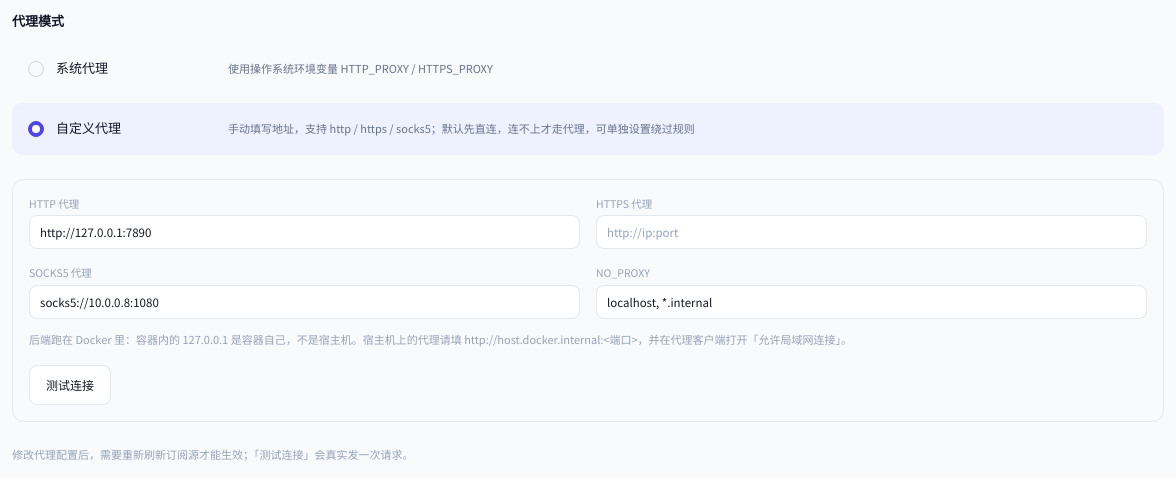
Test case: ProxyTab › reports the test result
What coordinates should you click on to do the following:
click the button "测试连接"
I would click on:
 (70, 385)
Its box is x1=29 y1=365 x2=111 y2=405.
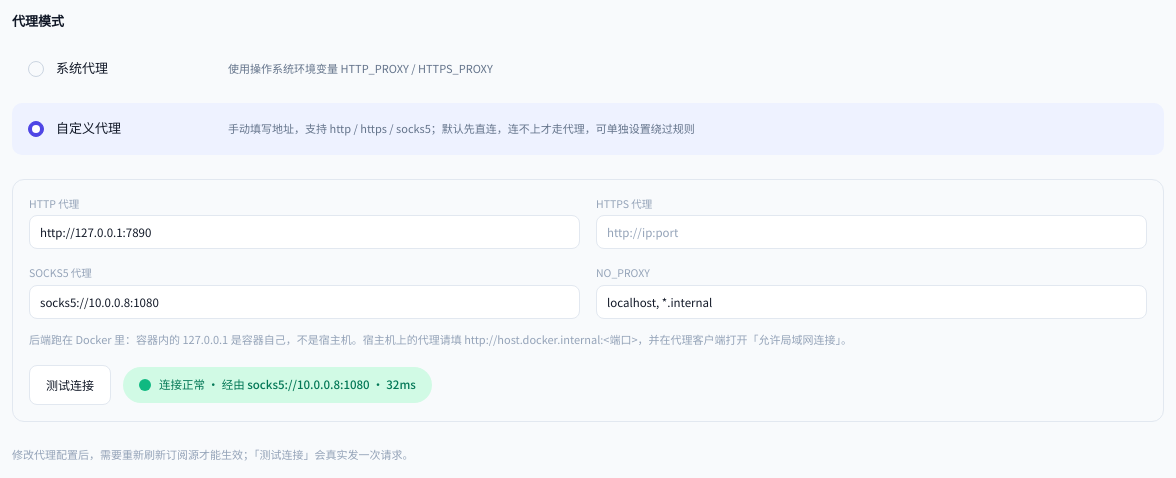
Now the text "连接正常 · 经由 socks5://10.0.0.8:1080 · 32ms" is shown, box x1=123 y1=367 x2=432 y2=403
